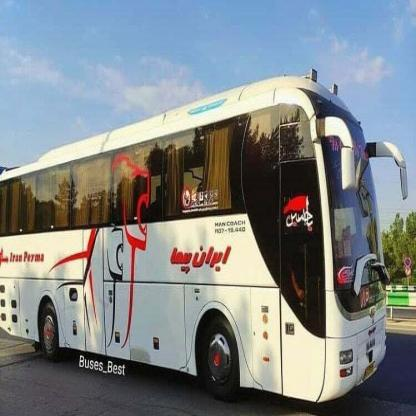Bus: (0, 78, 412, 416)
